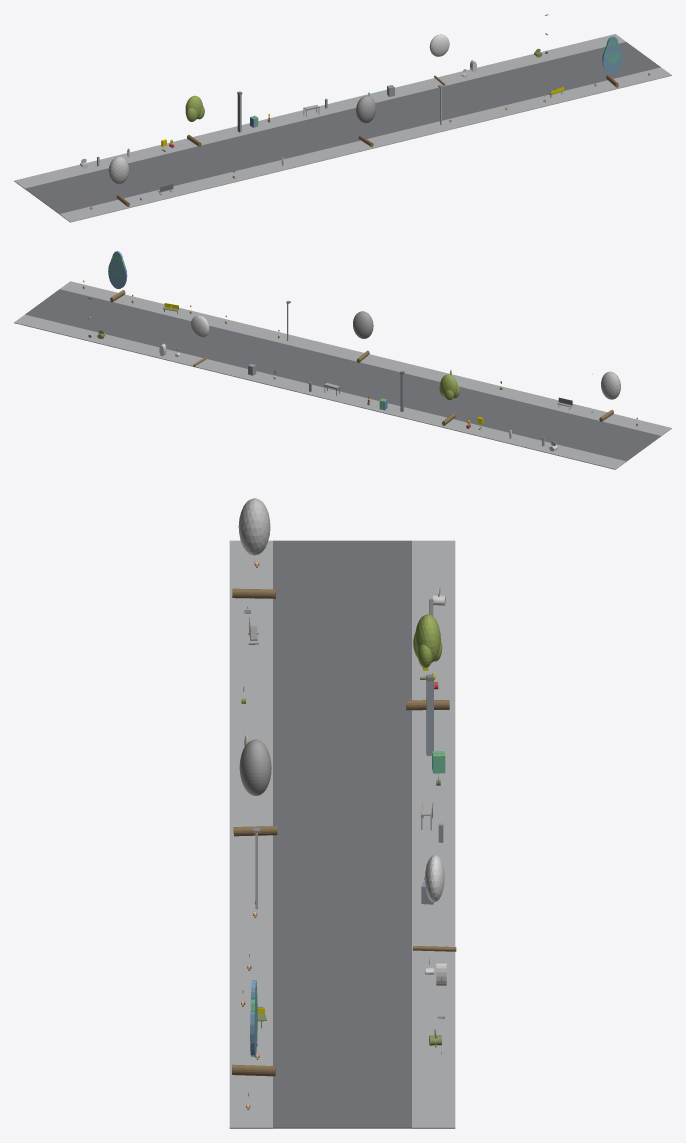
The picture shows the model from 3 angles, top to bottom: view 1: azimuth 30°, elevation 25°; view 2: azimuth 150°, elevation 25°; view 3: azimuth 270°, elevation 25°; orthographic projection. The views are drawn at different scales.
Visible parts, largest first — view 1: road_slab, sidewalk_left, sidewalk_right, inst_0016, inst_0012, inst_0014, inst_0013, inst_0015; view 2: road_slab, sidewalk_right, sidewalk_left, inst_0016, inst_0012, inst_0014, inst_0013, inst_0015; view 3: road_slab, sidewalk_left, sidewalk_right, inst_0012, inst_0014, inst_0013, inst_0016, inst_0015.
Part boxes in pixels (bbox=[...]): road_slab: bbox=[25, 42, 660, 214]; sidewalk_left: bbox=[59, 67, 671, 222]; sidewalk_right: bbox=[14, 34, 625, 188]; inst_0016: bbox=[602, 36, 622, 87]; inst_0012: bbox=[108, 156, 129, 206]; inst_0014: bbox=[356, 95, 376, 147]; inst_0013: bbox=[185, 95, 204, 147]; inst_0015: bbox=[429, 34, 449, 85]; road_slab: bbox=[25, 289, 660, 461]; sidewalk_right: bbox=[14, 314, 626, 469]; sidewalk_left: bbox=[60, 281, 671, 436]; inst_0016: bbox=[108, 251, 127, 302]; inst_0012: bbox=[599, 371, 620, 421]; inst_0014: bbox=[353, 311, 373, 362]; inst_0013: bbox=[439, 374, 459, 425]; inst_0015: bbox=[190, 315, 209, 366]; road_slab: bbox=[273, 540, 411, 1128]; sidewalk_left: bbox=[229, 540, 272, 1128]; sidewalk_right: bbox=[412, 540, 455, 1128]; inst_0012: bbox=[232, 498, 275, 598]; inst_0014: bbox=[233, 739, 277, 836]; inst_0013: bbox=[406, 614, 449, 710]; inst_0016: bbox=[232, 980, 275, 1076]; inst_0015: bbox=[413, 855, 456, 951].
Bounding box in the file's own units: 80 × 6.08 × 13.07.
